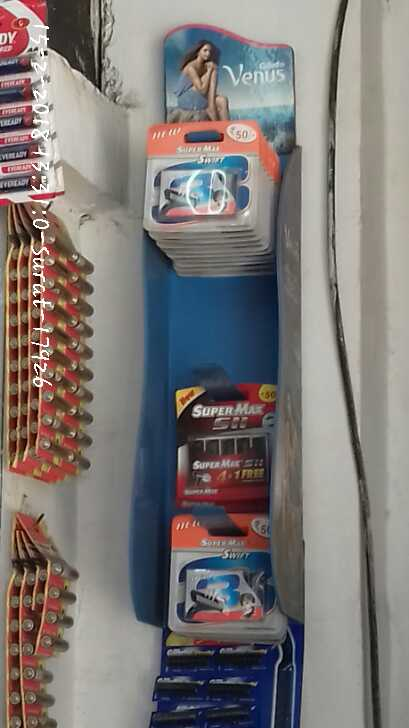reject: (171, 307, 309, 388)
